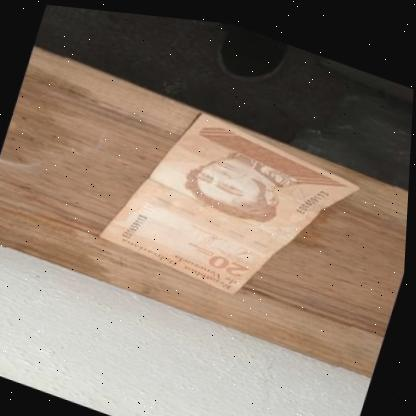twenty-front-vef: (95, 84, 368, 321)
